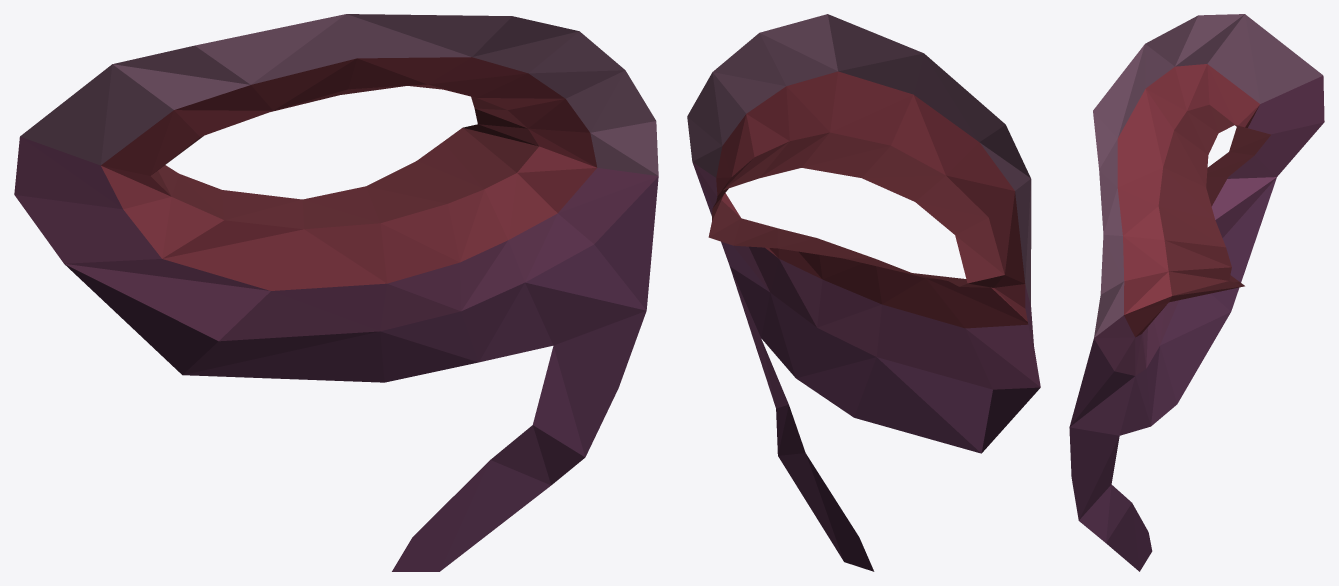
File: miscPunchedEyeFemale.glb
3 renders of one model, left to right at view 1: azimuth 30°, elevation 25°; view 2: azimuth 150°, elevation 25°; view 3: azimuth 270°, elevation 25°, orthographic. The views are drawn at different scales.
Parts seen in each view (by area): view 1: miscPunchedEyeFemale; view 2: miscPunchedEyeFemale; view 3: miscPunchedEyeFemale.
Part boxes in pixels (x1,y1,x2,y2): miscPunchedEyeFemale: (14, 14, 658, 571); miscPunchedEyeFemale: (687, 14, 1040, 571); miscPunchedEyeFemale: (1069, 14, 1324, 571).
Size of the model in its own units: 0.059 by 0.0639 by 0.0301.
